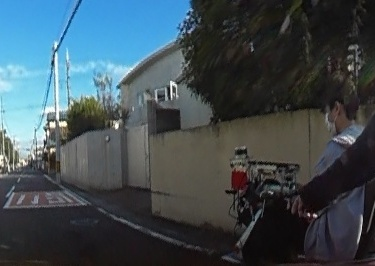person: (294, 77, 369, 259)
